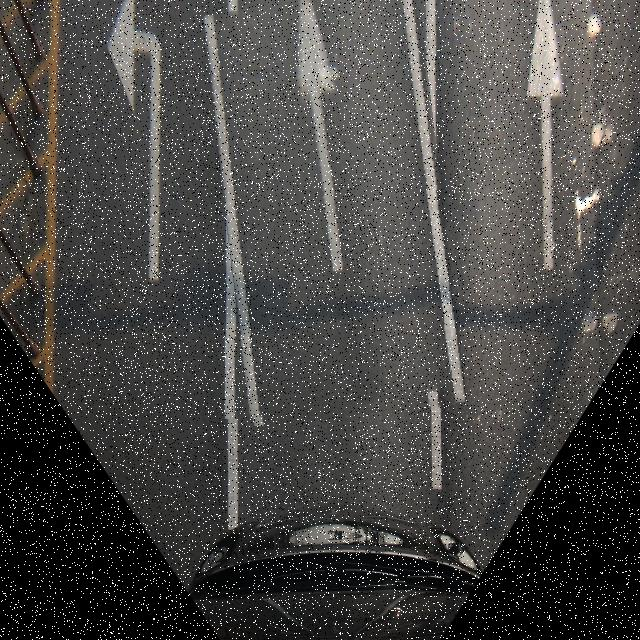forward: (215, 0, 454, 420)
